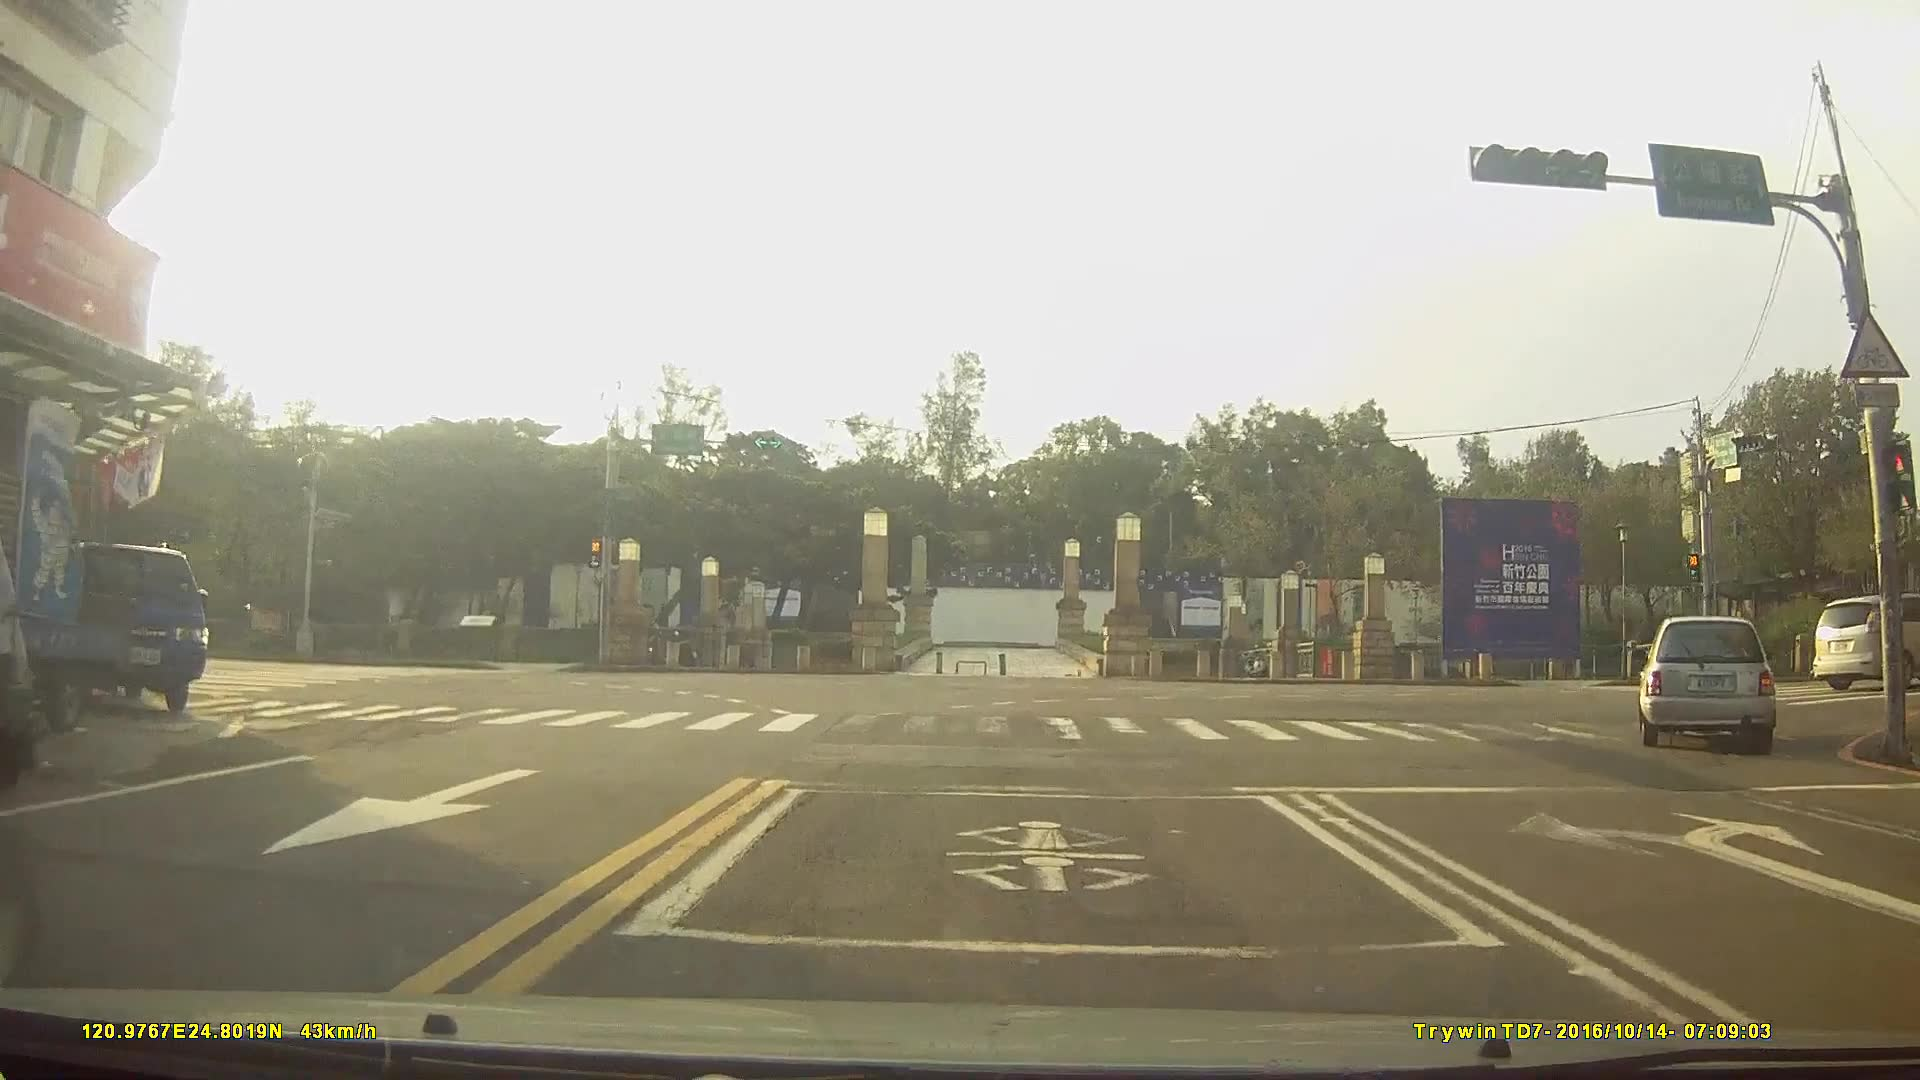vehicle: (69, 538, 206, 715), (1636, 613, 1778, 745), (1811, 591, 1920, 688)
